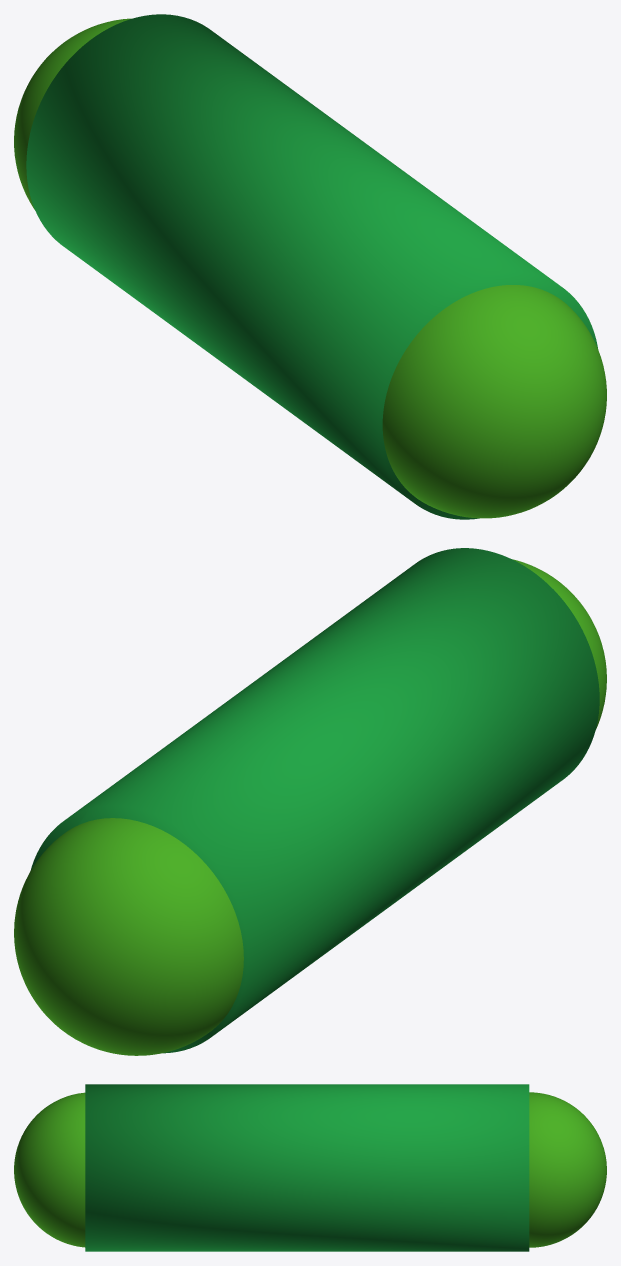
Rendered from limb.obj.
3 renders of one model, top to bottom at view 1: azimuth 30°, elevation 25°; view 2: azimuth 150°, elevation 25°; view 3: azimuth 270°, elevation 25°, orthographic. The views are drawn at different scales.
Bounding box in the file's own units: 9.97 × 10.4 × 36.61.
